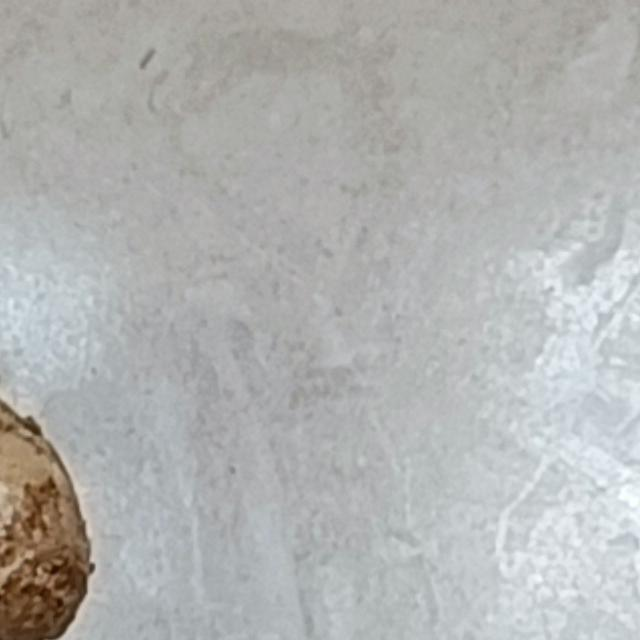ginger: (0, 0, 182, 640)
